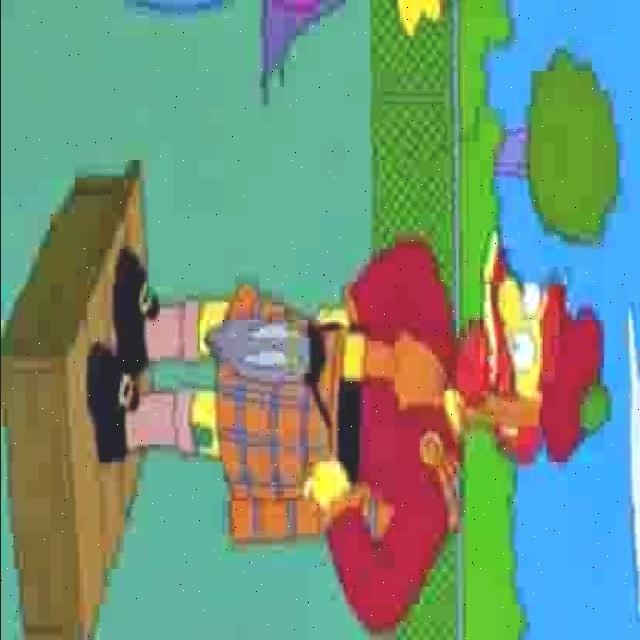Groundskeeper Willie: (442, 228, 566, 474)
